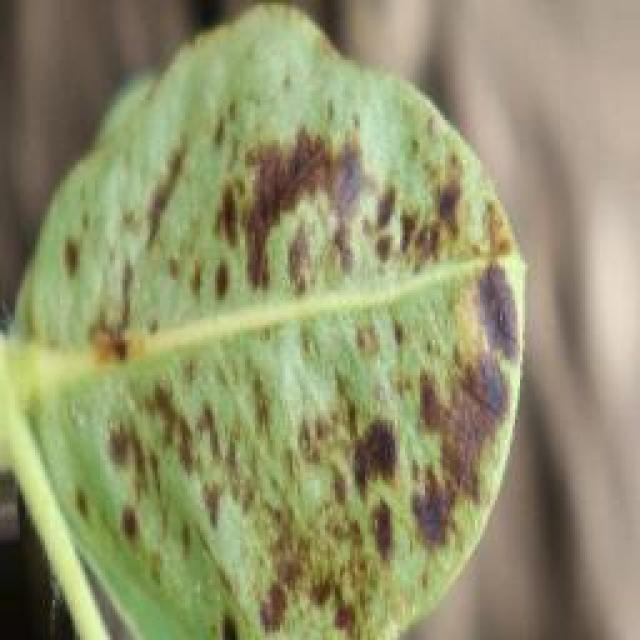Whitefly: (60, 117, 522, 603)
